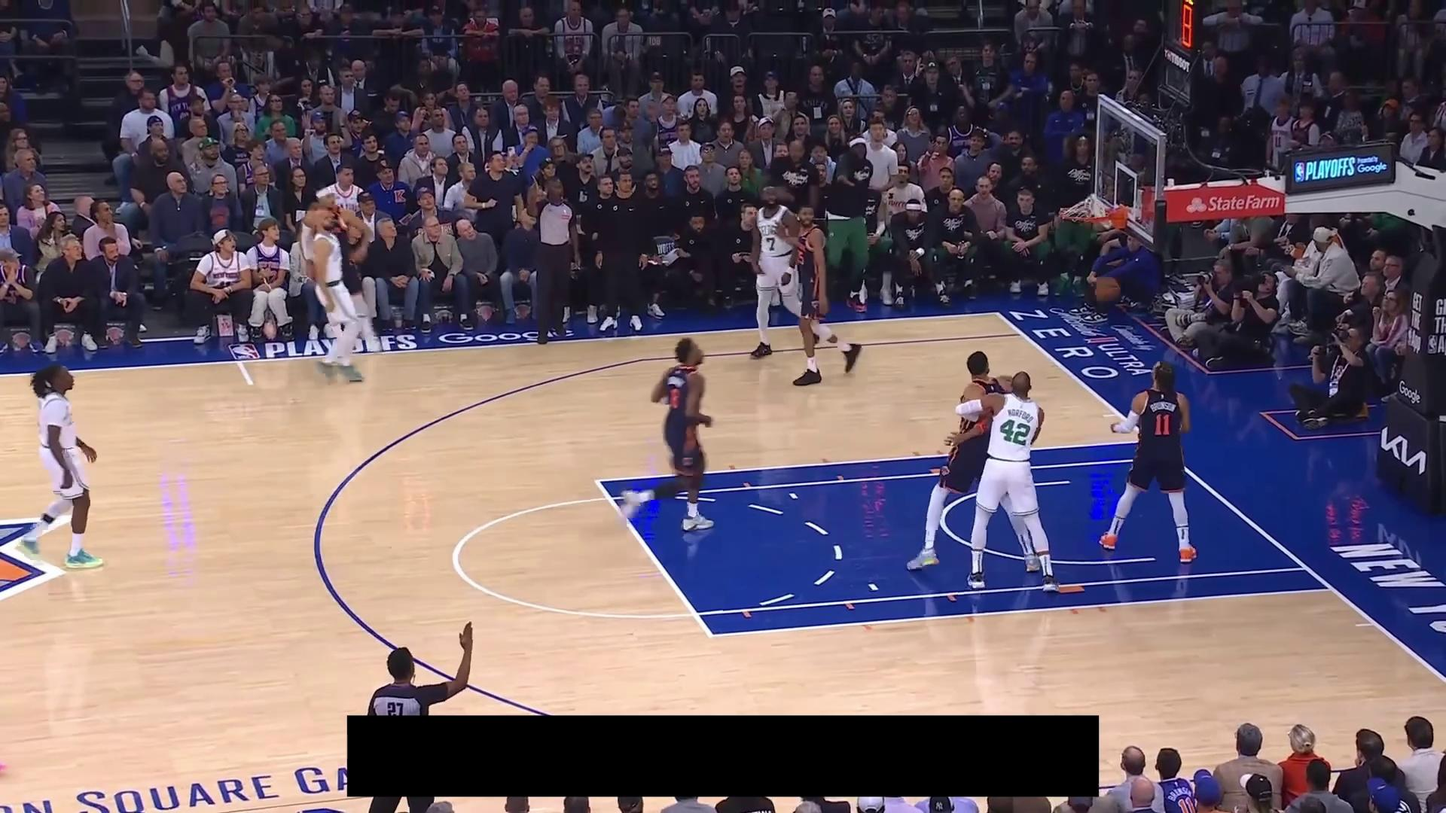ball: (1094, 276, 1121, 301)
number: (1000, 419, 1031, 446), (1154, 413, 1171, 437), (669, 387, 681, 409), (765, 236, 776, 252)
player: (908, 349, 1042, 574), (954, 369, 1060, 594), (1098, 359, 1198, 564), (618, 335, 717, 534), (17, 361, 106, 572), (776, 203, 863, 387), (299, 183, 382, 354), (746, 182, 821, 361), (314, 208, 366, 385)
referee: (366, 620, 476, 813), (521, 176, 581, 345)
rim: (1062, 204, 1112, 221)
